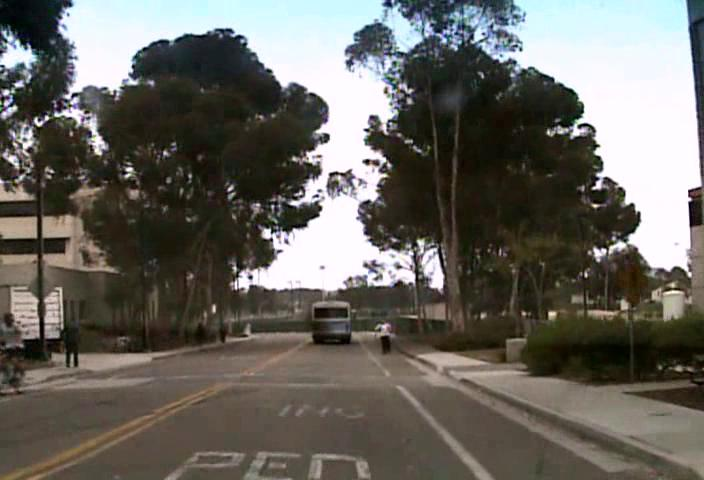pedestrianCrossing: (611, 255, 650, 307)
